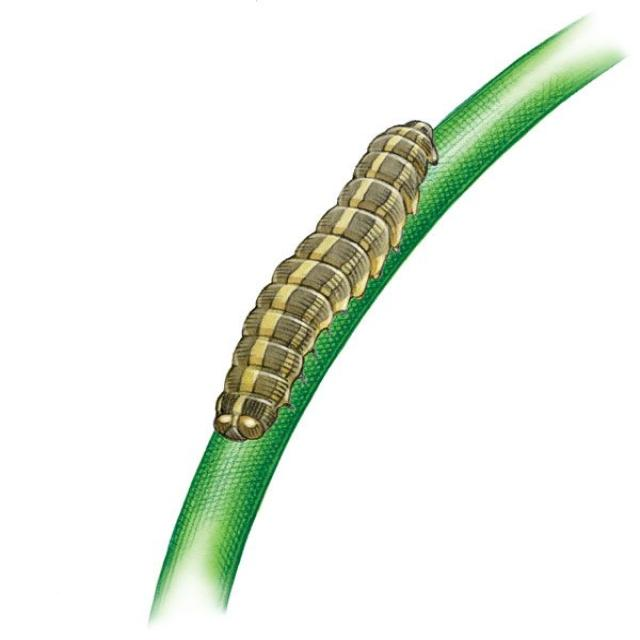Cutworm: (210, 106, 446, 454)
